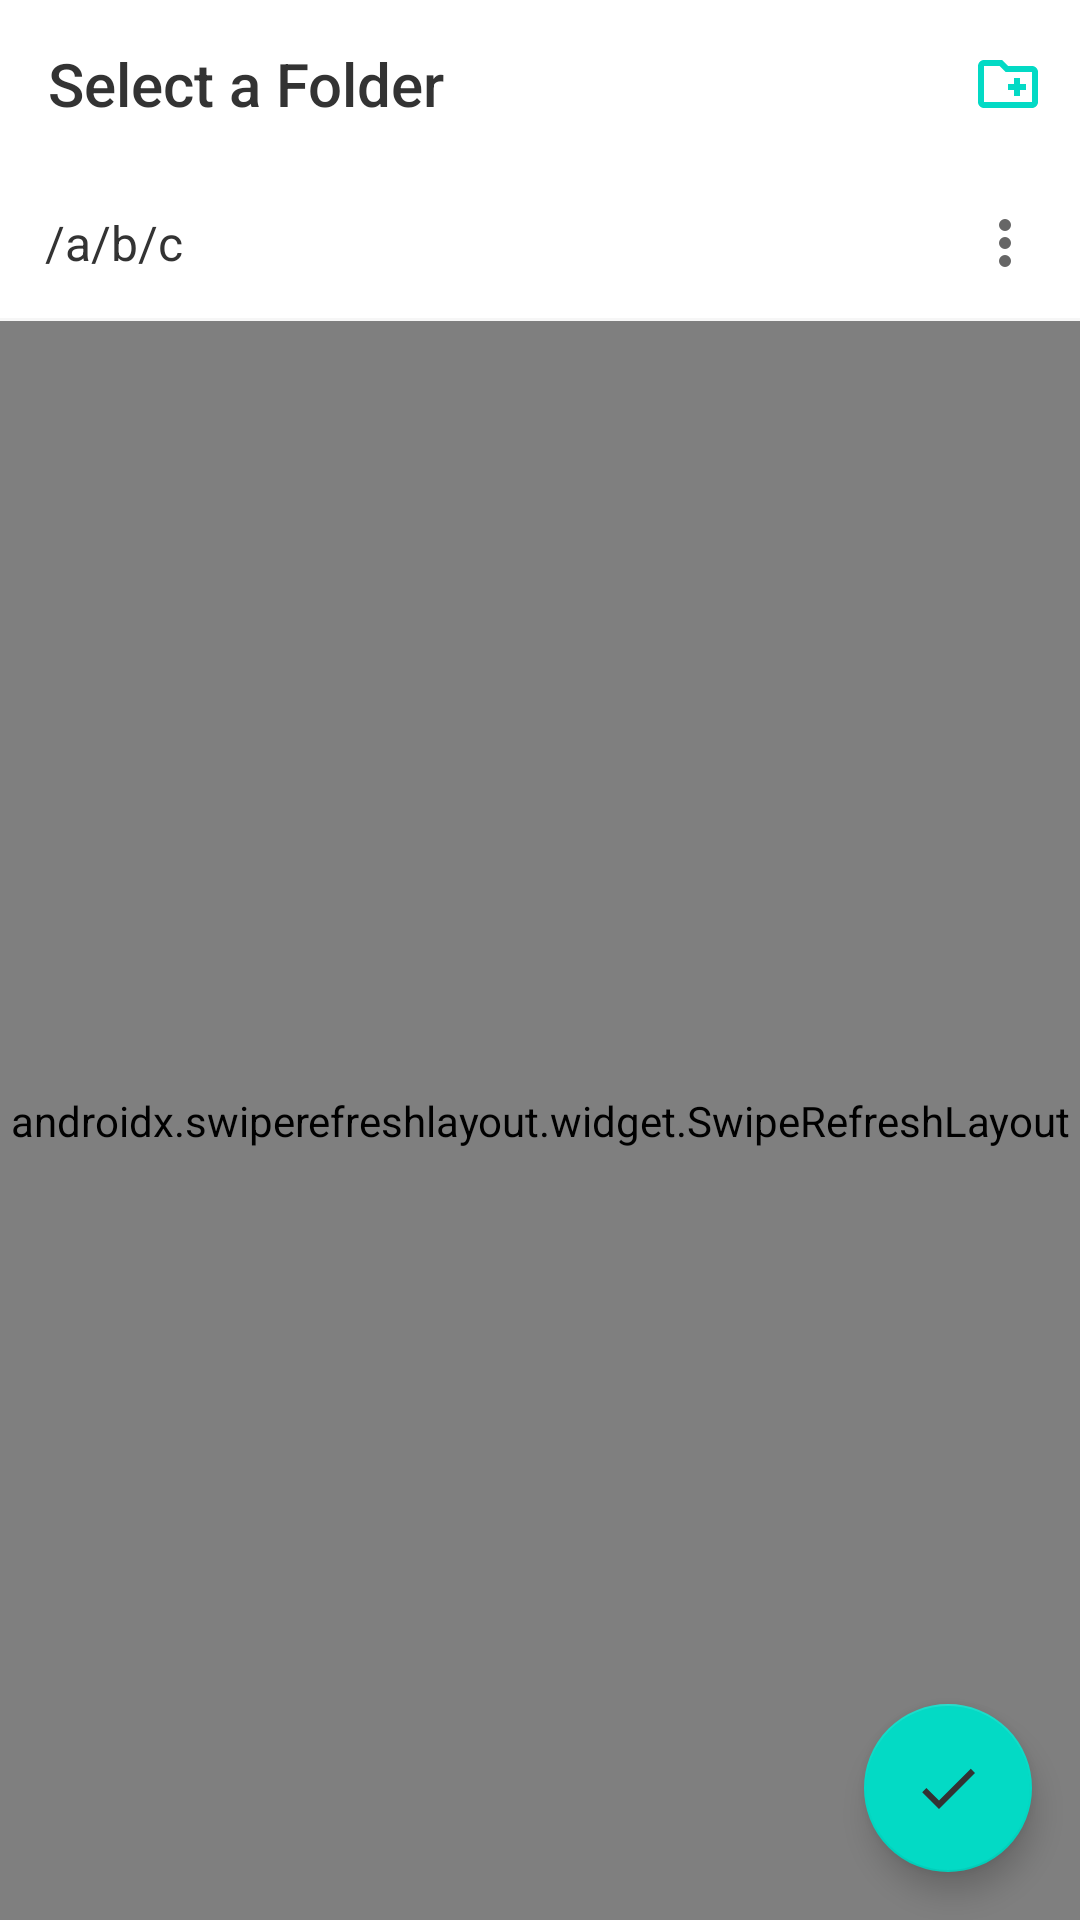

Icons on this 1080*1920 Android screen, each with the point to tap as [x,y]:
done: [948,1788]
dots vertical: [1005,243]
